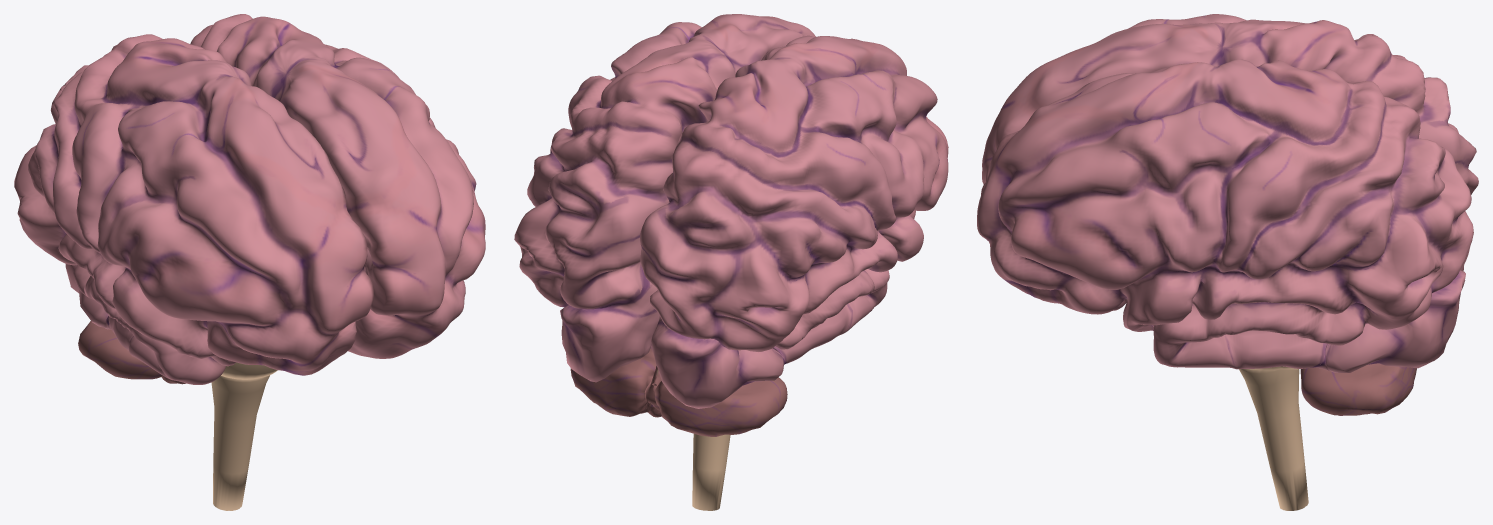
Rendered from cerebro.glb.
The picture shows the model from 3 angles, left to right: view 1: azimuth 30°, elevation 25°; view 2: azimuth 150°, elevation 25°; view 3: azimuth 270°, elevation 25°; orthographic projection. The views are drawn at different scales.
Visible parts, largest first — view 1: Cylinder.001; view 2: Cylinder.001; view 3: Cylinder.001.
Boxes of the visible parts, box(x1,y1,x2,y2) form: Cylinder.001: box(14, 14, 485, 510); Cylinder.001: box(514, 14, 948, 510); Cylinder.001: box(977, 14, 1478, 510).
Bounding box in the file's own units: 4.24 × 5.49 × 5.42.
Materials: 3 (2 with a texture image).
